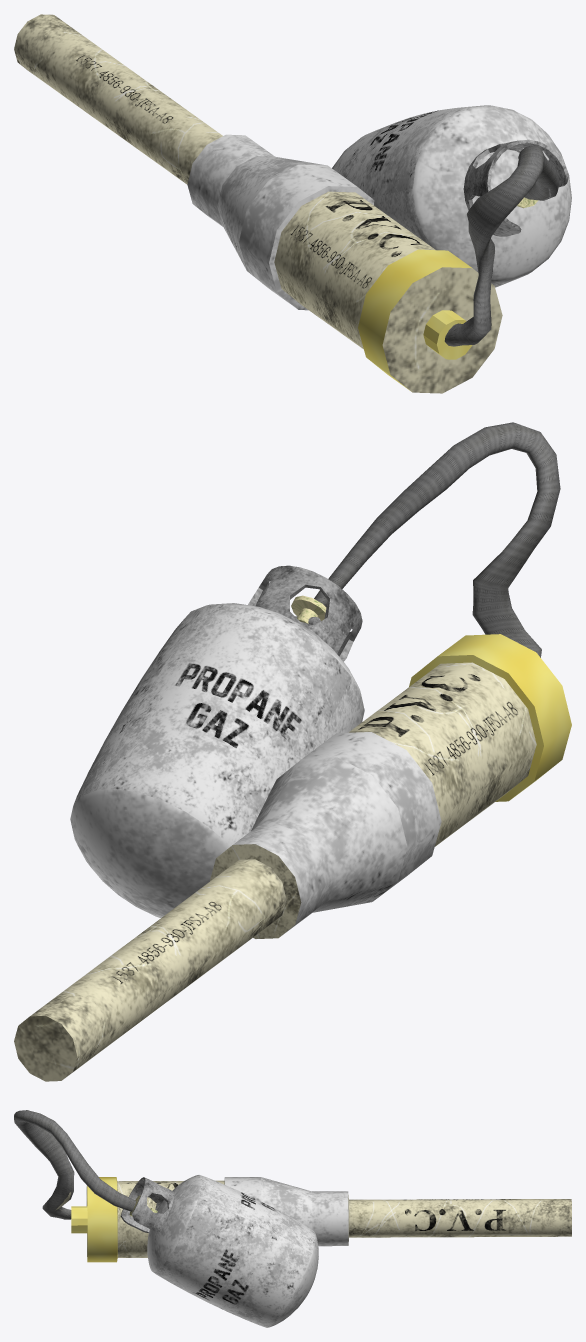
File: GunAPattate_W.obj
3 views of the same model, one above another, from view 1: azimuth 30°, elevation 25°; view 2: azimuth 150°, elevation 25°; view 3: azimuth 270°, elevation 25° (orthographic). The views are drawn at different scales.
Visible parts, largest first — view 1: Gun_a_pattates001; view 2: Gun_a_pattates001; view 3: Gun_a_pattates001.
Boxes of the visible parts, x1,y1,x2,y2 form: Gun_a_pattates001: (14,14,571,393); Gun_a_pattates001: (14,422,571,1081); Gun_a_pattates001: (14,1110,571,1327).
Bounding box in the file's own units: 47.69 × 52.05 × 141.
Materials: 1 (1 with a texture image).
